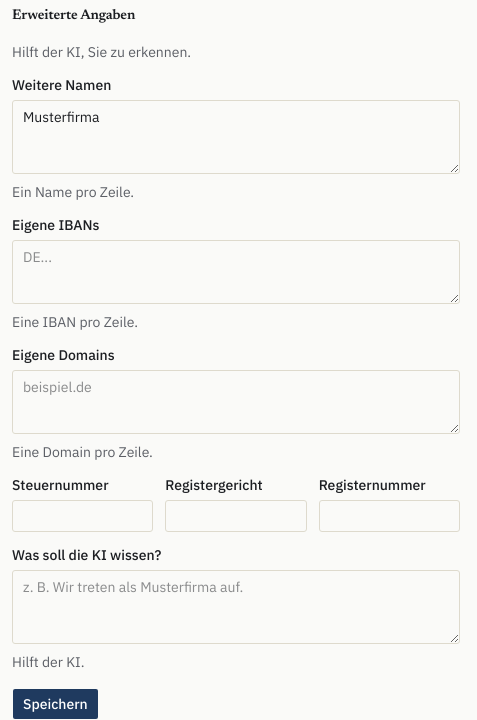
CompanyProfileForm › shows the generic-alias error's German copy when the action rejects it
(page scrolled)
Click the button "Speichern" at (55, 704), box [12,688,99,719]
(page scrolled)
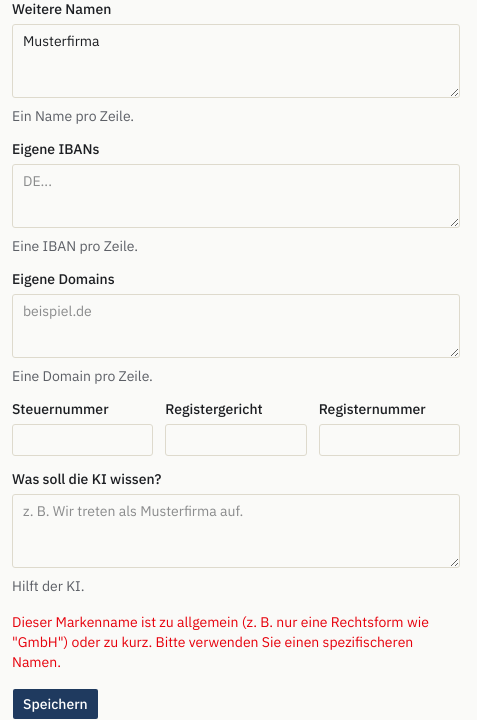
Result: the text "Dieser Markenname ist zu allgemein (z. B. nur eine Rechtsform wie \"GmbH\") oder zu kurz. Bitte verwenden Sie einen spezif" is shown at [12,613,429,671]
